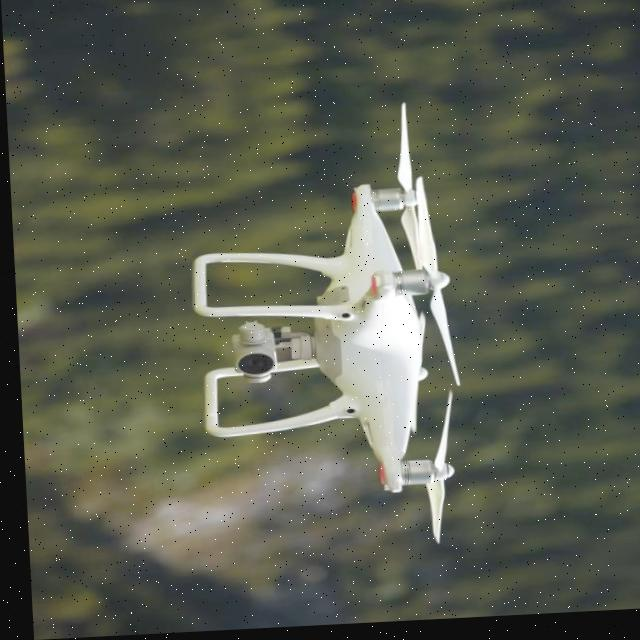drone: (156, 97, 483, 580)
